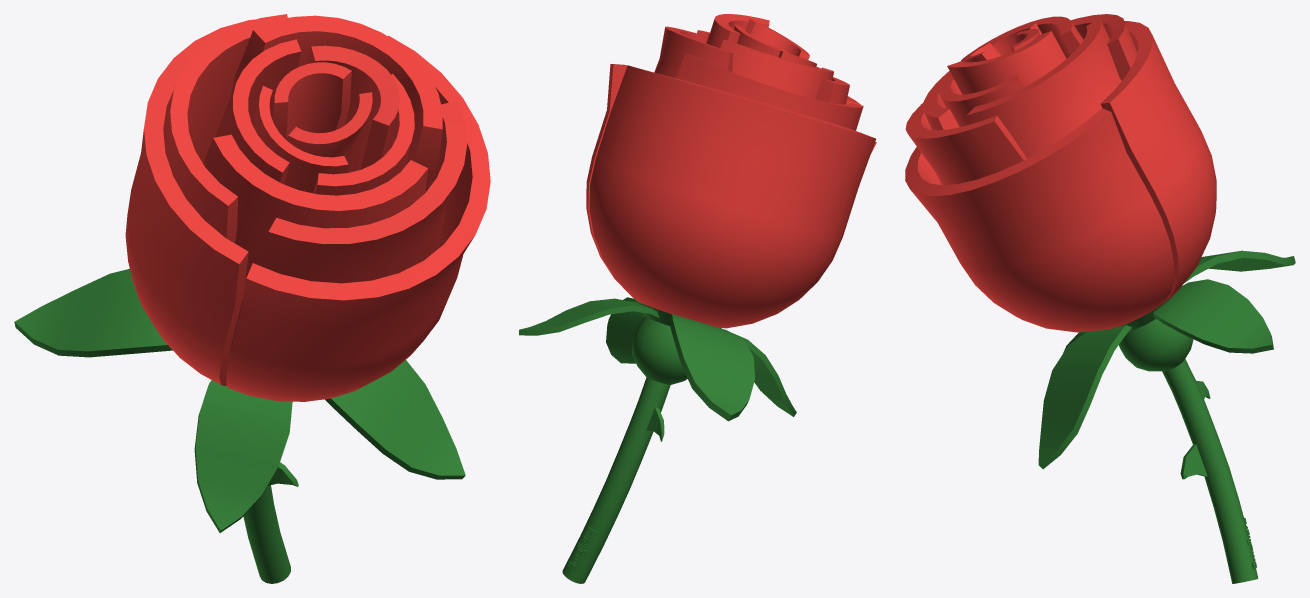
Rendered from rose.fbx.
3 views of the same model, side by side, from view 1: azimuth 30°, elevation 25°; view 2: azimuth 150°, elevation 25°; view 3: azimuth 270°, elevation 25° (orthographic). The views are drawn at different scales.
Parts seen in each view (by area): view 1: Circle.2030; view 2: Circle.2030; view 3: Circle.2030.
Boxes of the visible parts, <box> form: Circle.2030: <box>14,14,490,583</box>; Circle.2030: <box>519,14,876,583</box>; Circle.2030: <box>905,14,1295,583</box>.
Bounding box in the file's own units: 117 × 234 × 157.
1 material, 1 textured.
